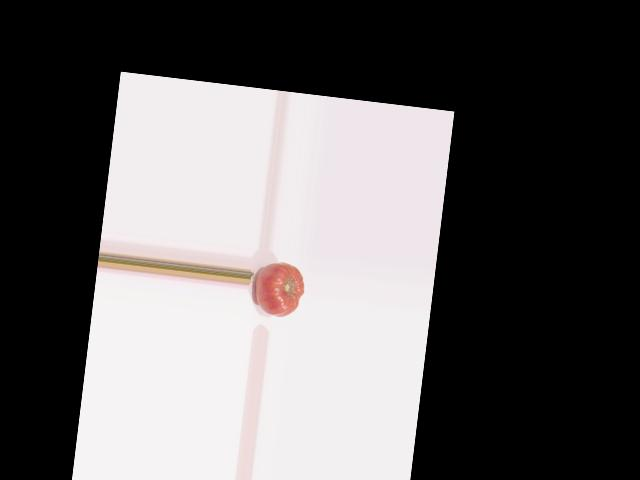tomato: (252, 260, 306, 318)
